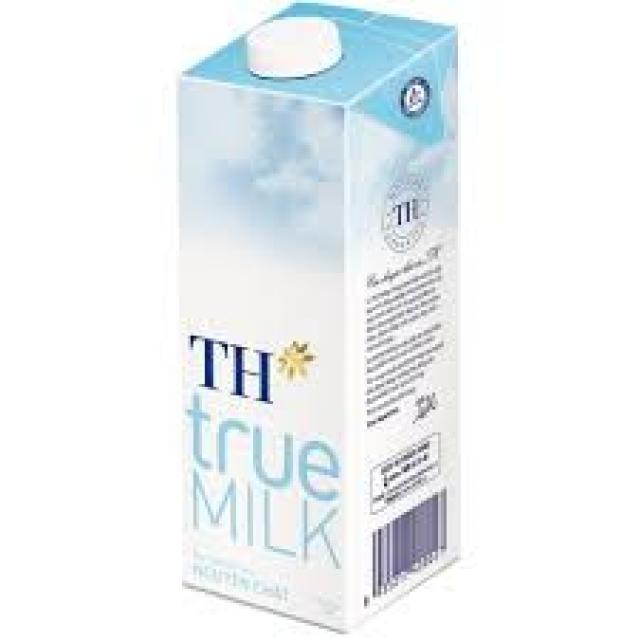non_white_jug: (208, 28, 460, 549)
